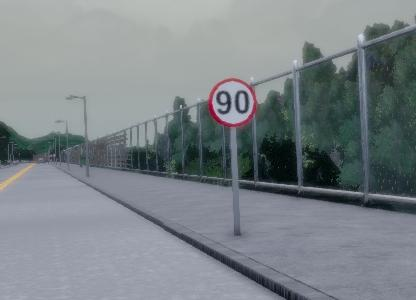Speed_90: (207, 74, 258, 130)
